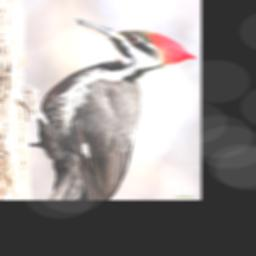Woodpecker: (20, 16, 197, 200)
